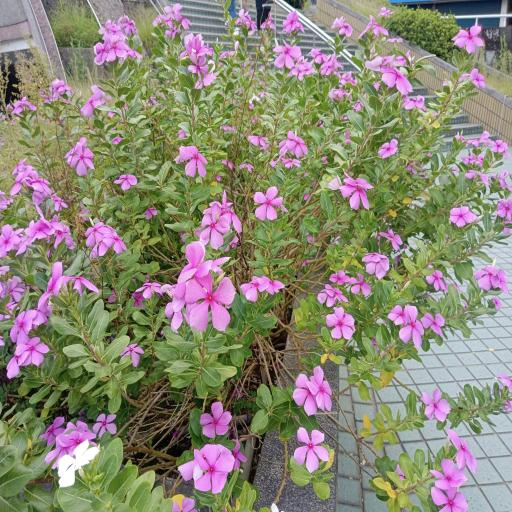Periwinkle: (183, 272, 238, 333), (289, 427, 331, 475), (197, 400, 233, 441), (416, 388, 453, 426), (323, 306, 360, 342), (177, 142, 210, 182), (61, 140, 95, 178), (252, 186, 285, 225), (447, 203, 482, 232), (90, 412, 118, 441), (113, 173, 140, 195)
